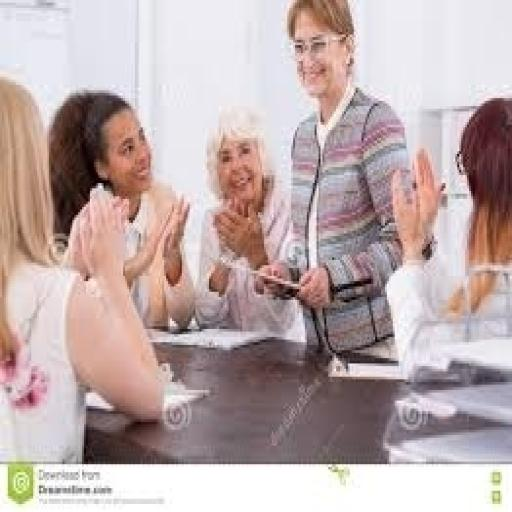clapping: (0, 72, 166, 464), (252, 0, 414, 355), (45, 88, 195, 334), (383, 93, 510, 382), (191, 104, 305, 342)
